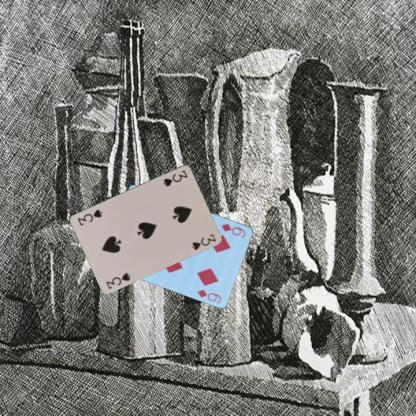3s: (161, 167, 189, 188), (103, 270, 132, 290)
6d: (219, 220, 247, 238)
